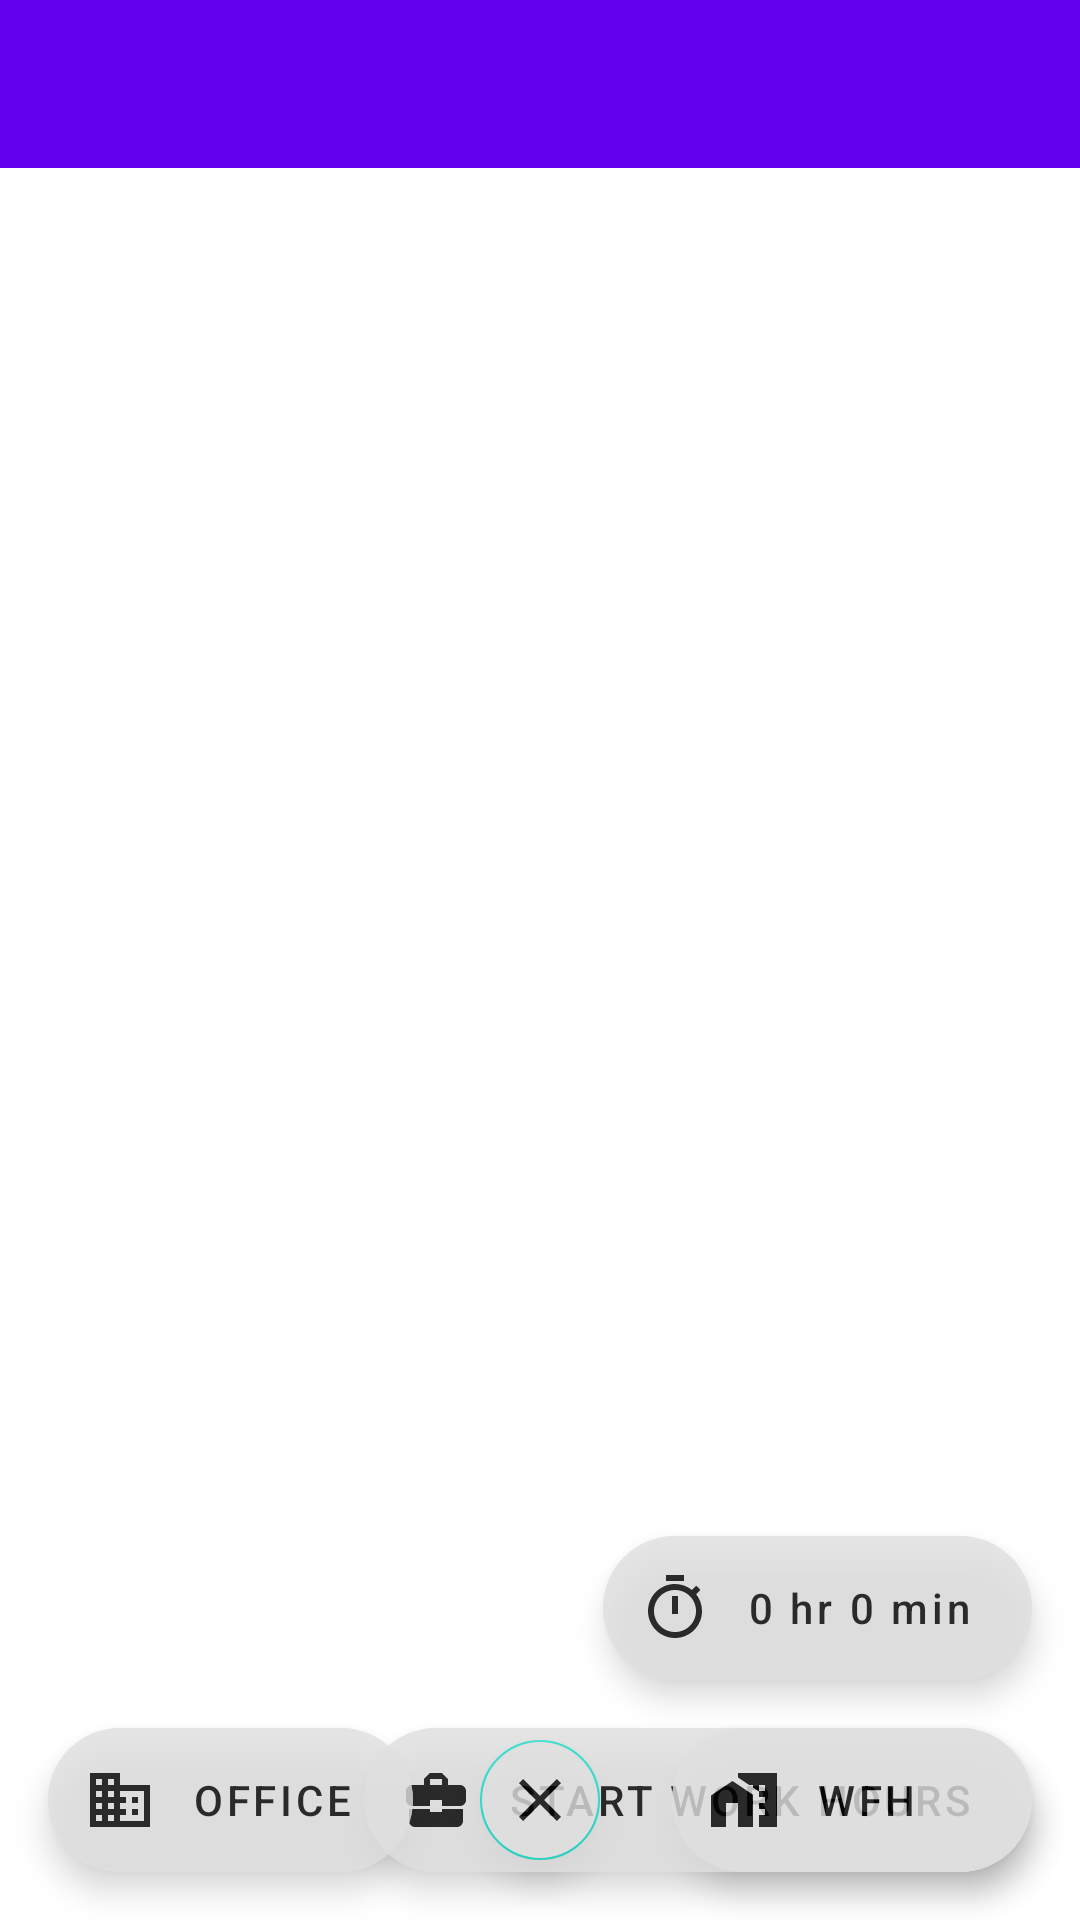

Point at icon controls on the screen. Image size 1080x1920, points as (x=x, y=y).
close: (x=540, y=1800)
